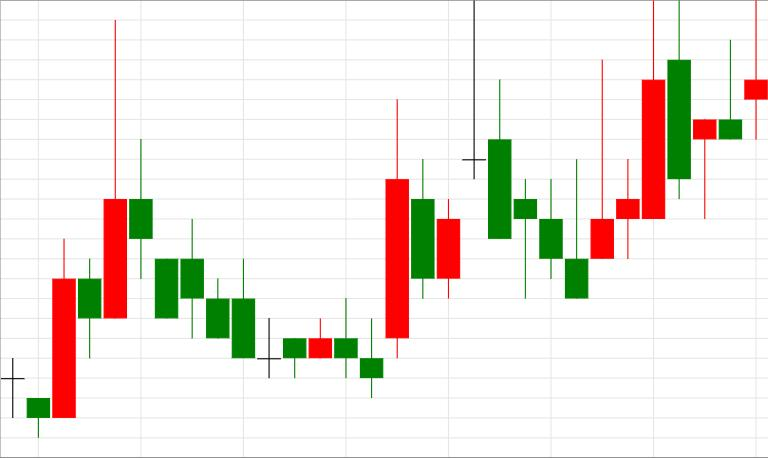inverse_hammer_rise: (462, 1, 588, 298)
morning_star_rise: (130, 99, 409, 397)
